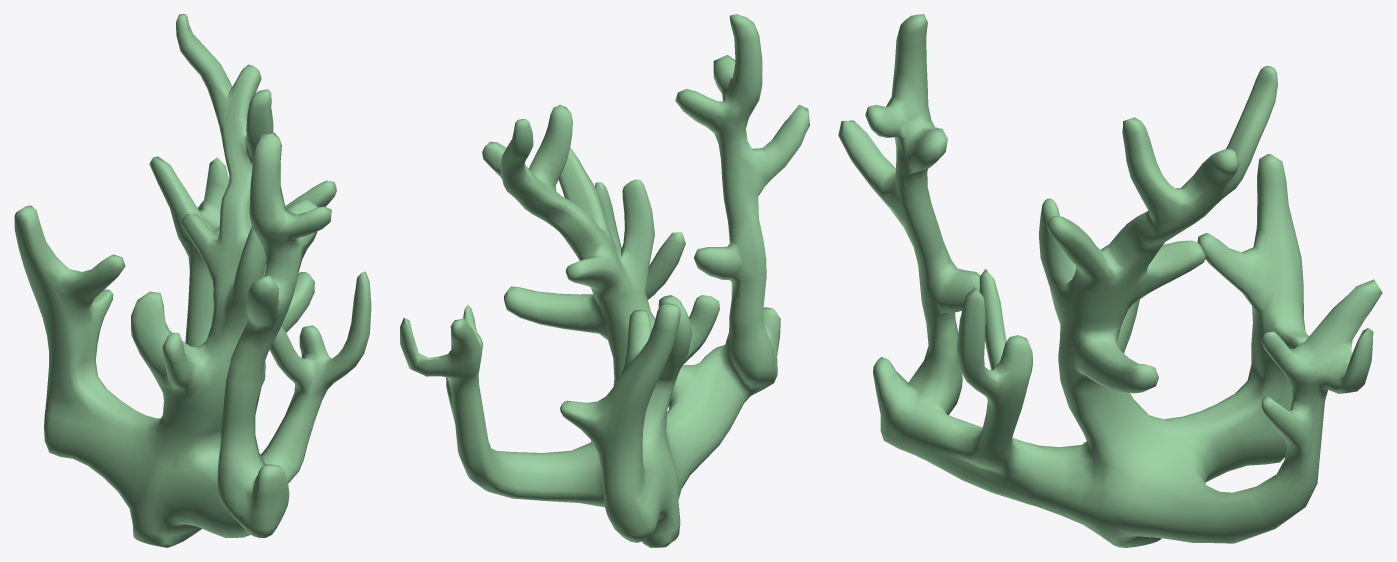
The model's file is SM_ocean_coralFinger_01.fbx.
3 renders of one model, left to right at view 1: azimuth 30°, elevation 25°; view 2: azimuth 150°, elevation 25°; view 3: azimuth 270°, elevation 25°, orthographic. The views are drawn at different scales.
Visible parts, largest first — view 1: SM_ocean_coralFinger_01_LOD0; view 2: SM_ocean_coralFinger_01_LOD0; view 3: SM_ocean_coralFinger_01_LOD0.
Boxes of the visible parts, x1,y1,x2,y2 form: SM_ocean_coralFinger_01_LOD0: [14, 14, 371, 547]; SM_ocean_coralFinger_01_LOD0: [400, 14, 809, 547]; SM_ocean_coralFinger_01_LOD0: [838, 14, 1382, 547].
Size of what is drawn, in the model's own units: 39.48 by 65.57 by 70.92.
